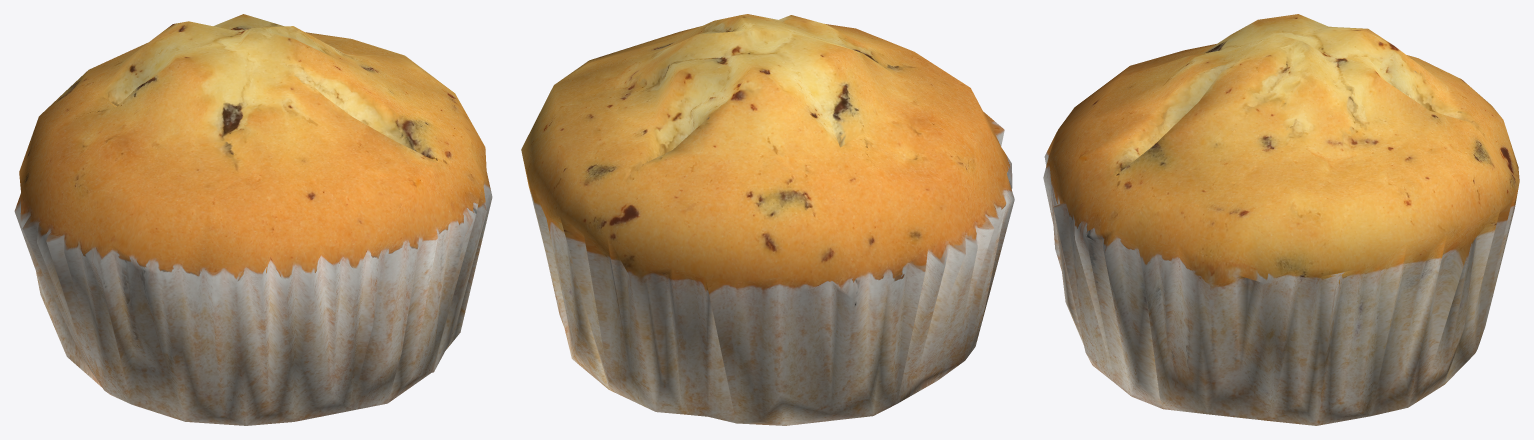
File: 3DCake001_LQ-1K-JPG.obj
The picture shows the model from 3 angles, left to right: view 1: azimuth 30°, elevation 25°; view 2: azimuth 150°, elevation 25°; view 3: azimuth 270°, elevation 25°; orthographic projection. The views are drawn at different scales.
Visible parts, largest first — view 1: 3DCake001_LQ-1K-JPG; view 2: 3DCake001_LQ-1K-JPG; view 3: 3DCake001_LQ-1K-JPG.
Boxes of the visible parts, x1=… form: 3DCake001_LQ-1K-JPG: x1=14, y1=14, x2=492, y2=425; 3DCake001_LQ-1K-JPG: x1=521, y1=14, x2=1014, y2=425; 3DCake001_LQ-1K-JPG: x1=1043, y1=14, x2=1519, y2=425.
Bounding box in the file's own units: 0.0968 × 0.069 × 0.0942.
1 material, 1 textured.
